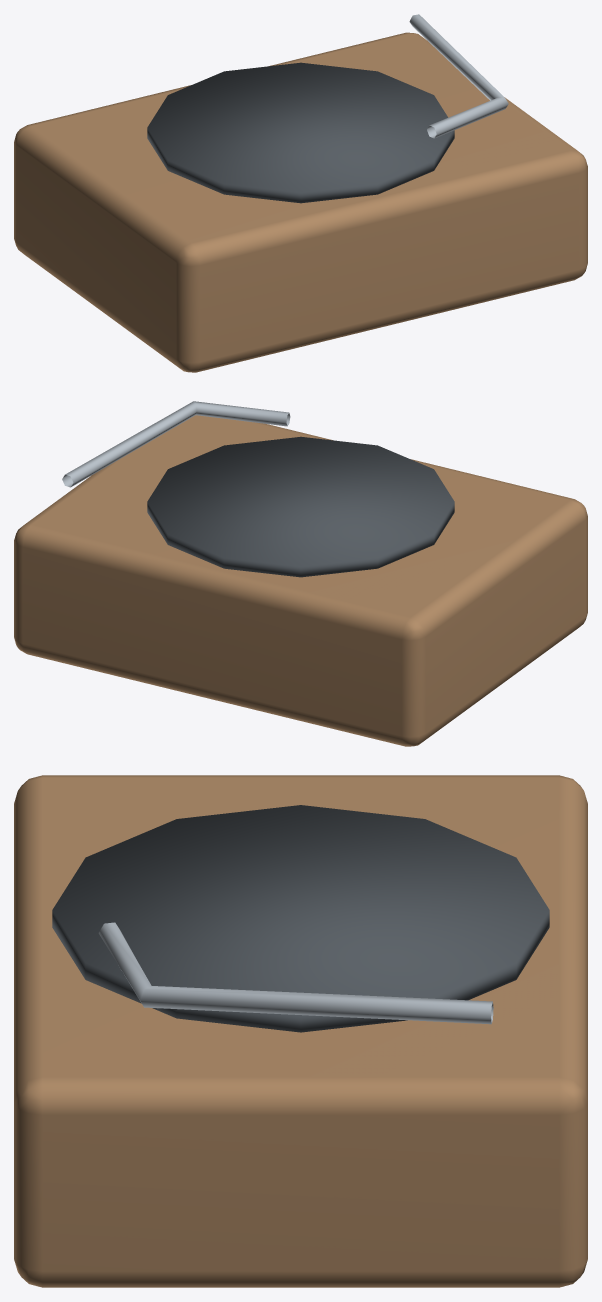
Rendered from atelier-record-player.glb.
3 renders of one model, top to bottom at view 1: azimuth 30°, elevation 25°; view 2: azimuth 150°, elevation 25°; view 3: azimuth 270°, elevation 25°, orthographic. The views are drawn at different scales.
Visible parts, largest first — view 1: legs.179, metal.155, steel.053; view 2: legs.179, metal.155, steel.053; view 3: legs.179, metal.155, steel.053.
Boxes of the visible parts, left/top/right/bottom form: legs.179: left=14, top=32, right=587, bottom=372; metal.155: left=147, top=62, right=454, bottom=203; steel.053: left=409, top=14, right=508, bottom=138; legs.179: left=14, top=415, right=587, bottom=746; metal.155: left=147, top=436, right=454, bottom=577; steel.053: left=62, top=401, right=290, bottom=487; legs.179: left=14, top=775, right=587, bottom=1287; metal.155: left=52, top=805, right=549, bottom=1032; steel.053: left=98, top=922, right=493, bottom=1024.
Bounding box in the file's own units: 0.4 × 0.1552 × 0.3.
